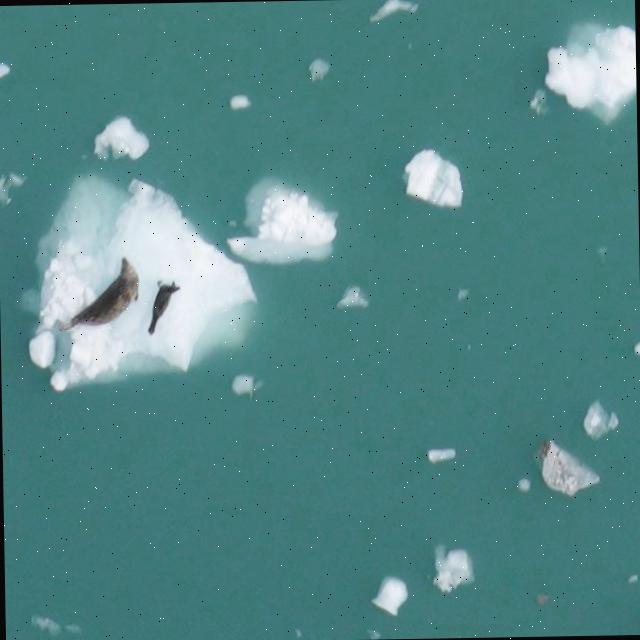seal: (51, 254, 153, 353), (132, 275, 180, 337)
